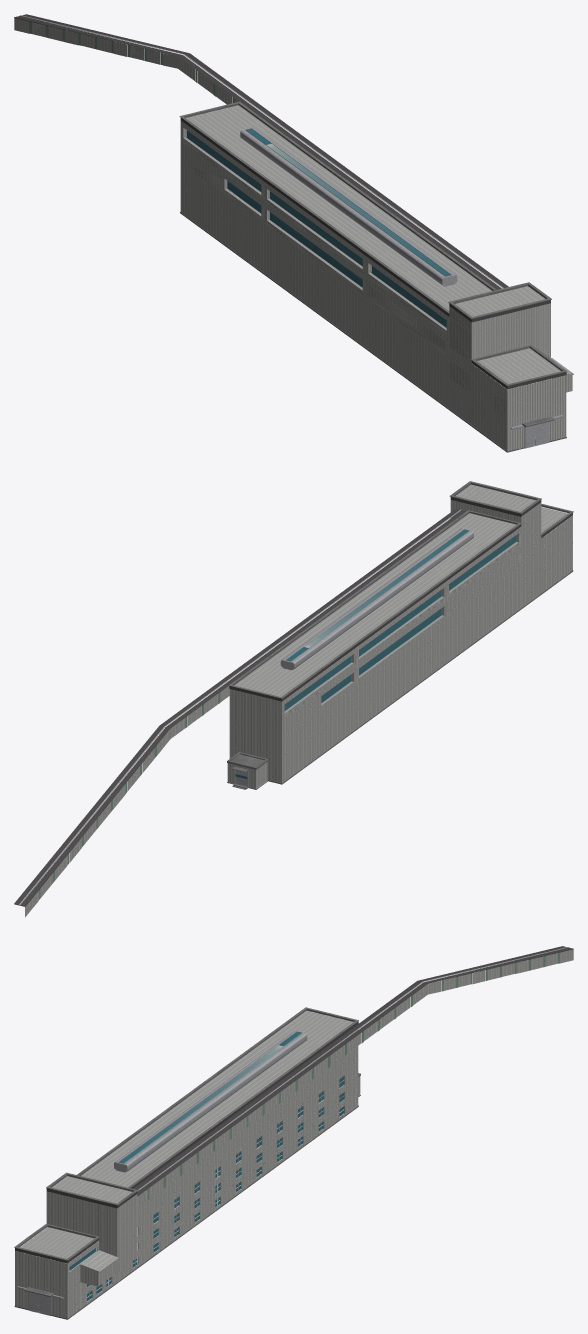
The model's file is 焙烧车间.glb.
3 renders of one model, top to bottom at view 1: azimuth 30°, elevation 25°; view 2: azimuth 150°, elevation 25°; view 3: azimuth 330°, elevation 25°, orthographic. The views are drawn at different scales.
Parts seen in each view (by area): view 1: 焙烧车间001, 焙烧车间002, 焙烧车间004, 焙烧车间003, 焙烧车间005; view 2: 焙烧车间001, 焙烧车间002, 焙烧车间003, 焙烧车间004, 焙烧车间005; view 3: 焙烧车间001, 焙烧车间002, 焙烧车间004, 焙烧车间003, 焙烧车间005, 焙烧车间006.
Boxes of the visible parts, bbox=[...] form: 焙烧车间001: bbox=[14, 18, 573, 451]; 焙烧车间002: bbox=[14, 14, 566, 389]; 焙烧车间004: bbox=[20, 15, 562, 448]; 焙烧车间003: bbox=[179, 101, 567, 452]; 焙烧车间005: bbox=[186, 128, 450, 327]; 焙烧车间001: bbox=[25, 484, 572, 917]; 焙烧车间002: bbox=[14, 497, 572, 906]; 焙烧车间003: bbox=[227, 481, 573, 789]; 焙烧车间004: bbox=[19, 509, 473, 905]; 焙烧车间005: bbox=[235, 529, 516, 778]; 焙烧车间001: bbox=[15, 949, 573, 1318]; 焙烧车间002: bbox=[15, 946, 573, 1263]; 焙烧车间004: bbox=[17, 947, 568, 1315]; 焙烧车间003: bbox=[14, 1007, 360, 1319]; 焙烧车间005: bbox=[69, 1032, 343, 1300]; 焙烧车间006: bbox=[147, 952, 559, 1199].
Bounding box in the file's own units: 20.8 × 26.34 × 246.
Materials: 6 (6 with a texture image).
